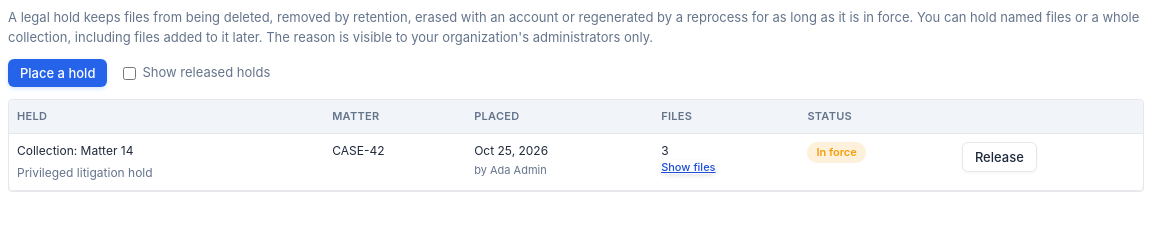
Test: OrgLegalHoldsPanel › shows the files a hold covers on request, by title, and hides them again
expect the text "Collection: Matter 14" is shown: met, box top-left (17, 142), bottom-right (133, 158)
Click the button "Show files": (688, 166) top-left (661, 160), bottom-right (716, 174)
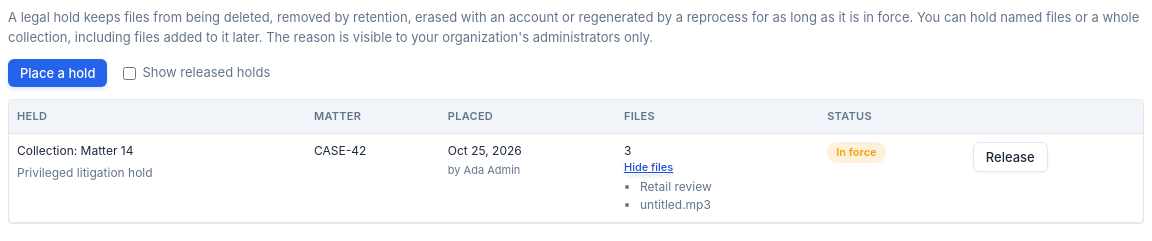
expect the list item "Retail review" is shown: met, box top-left (640, 178), bottom-right (712, 194)
expect the list item "untitled.mp3" is shown: met, box top-left (640, 196), bottom-right (711, 212)
Click the button "Hide files": (649, 166) top-left (624, 160), bottom-right (673, 174)
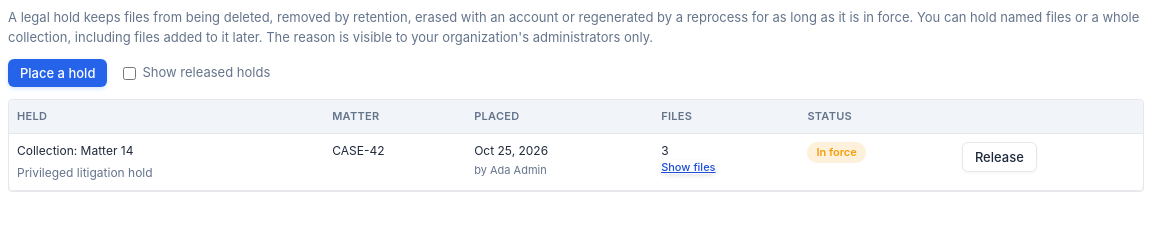
expect the list item "Retail review" is gone: met
